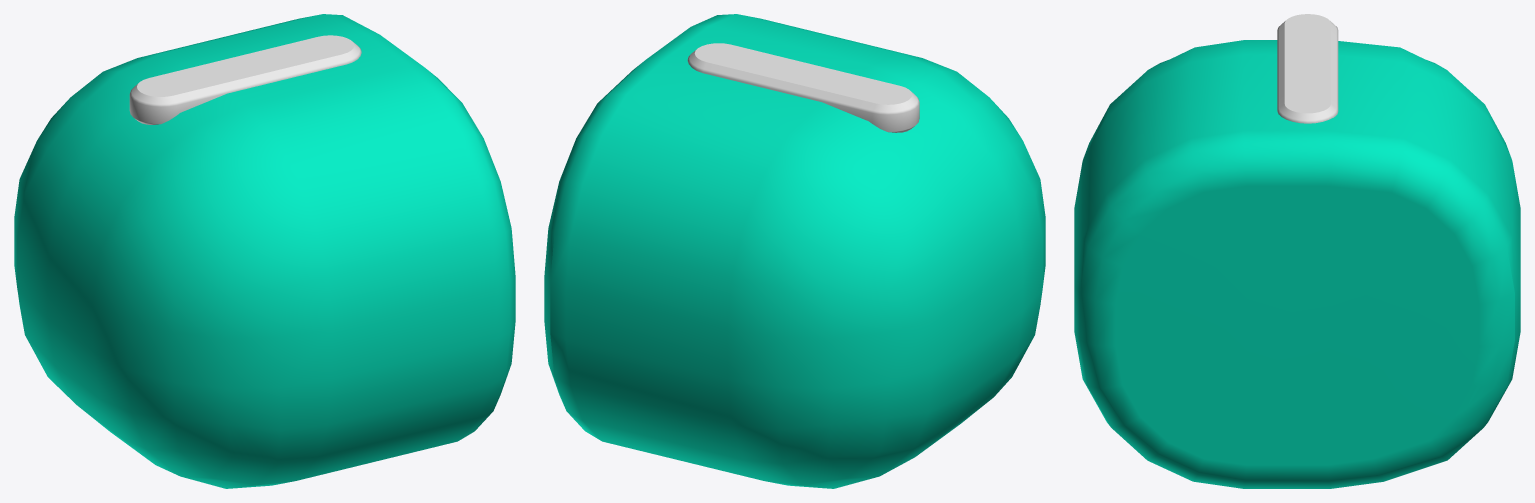
Rendered from loop_minus.fbx.
The picture shows the model from 3 angles, left to right: view 1: azimuth 30°, elevation 25°; view 2: azimuth 150°, elevation 25°; view 3: azimuth 270°, elevation 25°; orthographic projection. The views are drawn at different scales.
Parts seen in each view (by area): view 1: pCube69; view 2: pCube69; view 3: pCube69.
Boxes of the visible parts, left/top/right/bottom form: pCube69: left=14, top=14, right=515, bottom=488; pCube69: left=544, top=14, right=1045, bottom=488; pCube69: left=1074, top=14, right=1520, bottom=488.
Size of the model in its own units: 0.008 by 0.00816 by 0.00913.
